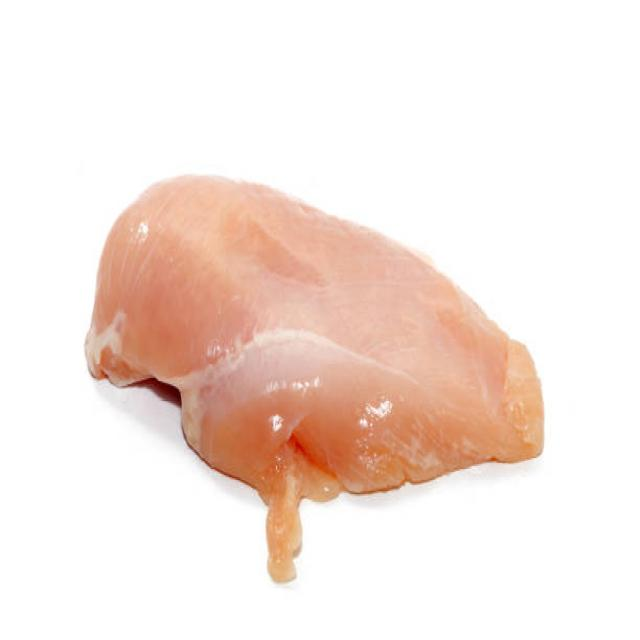Chicken: (61, 126, 553, 571)
